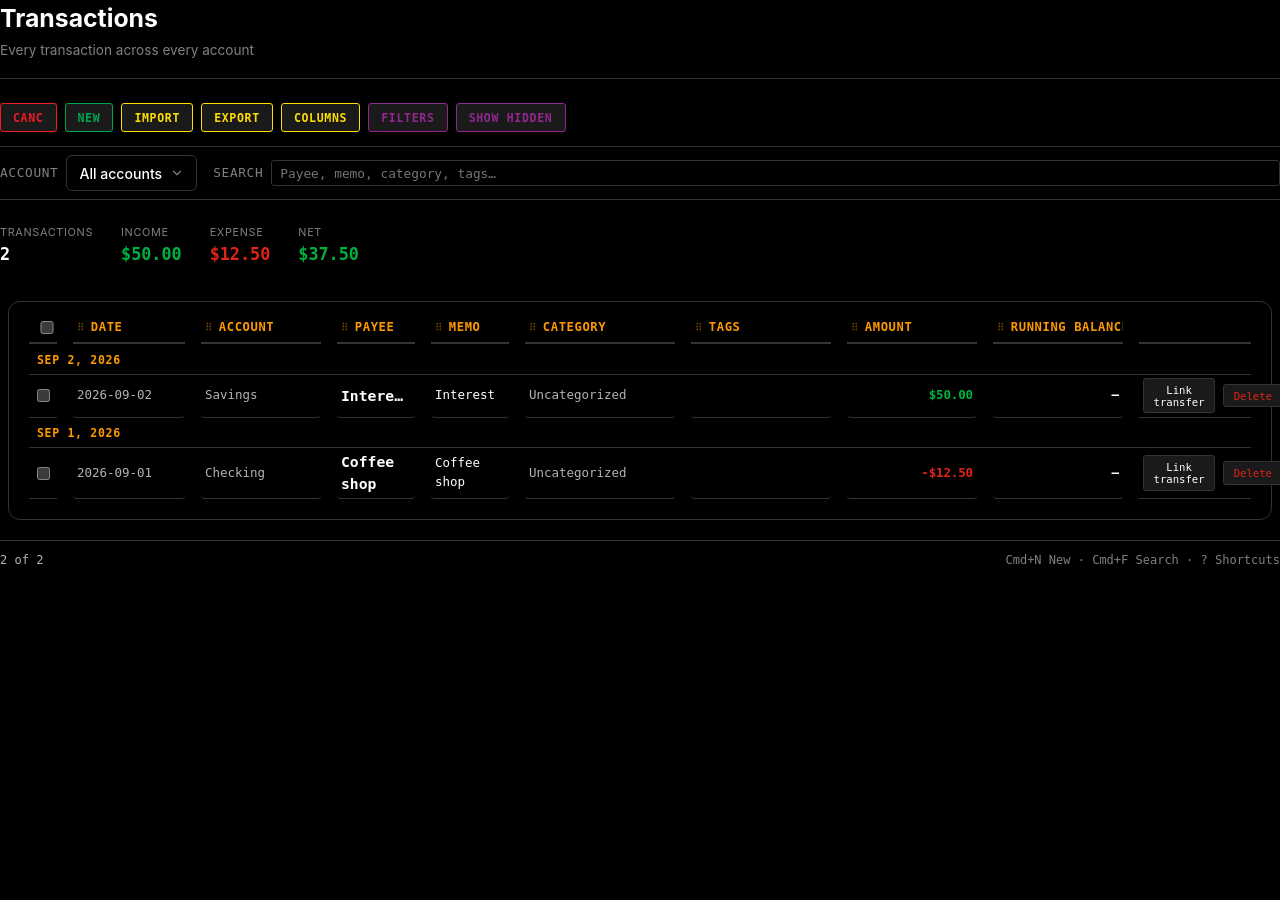
Test: AllTransactionsScreen Category combobox editing + inline creation (#73) › fetches list_category_groups and seeds the create-new dialog's Group dropdown
The width and height of the screenshot is (1280, 900).
Step 1. Click the text "Uncategorized" in the row of "-$12.50" → (600, 474), box [525,448,675,499]
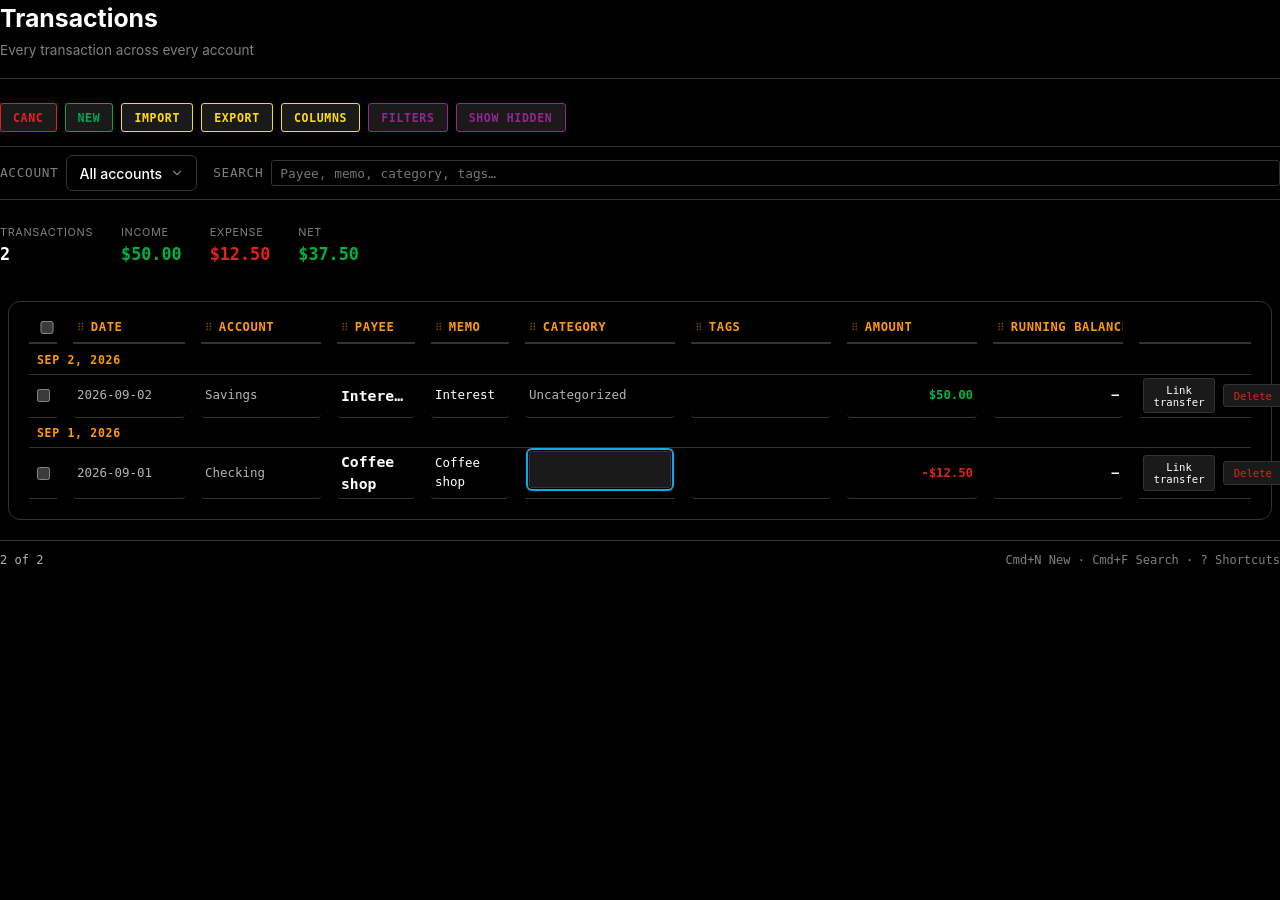
Step 2. Type "Subscriptions" into the field named "Category for Coffee shop" → (600, 469), box [529,451,671,488]
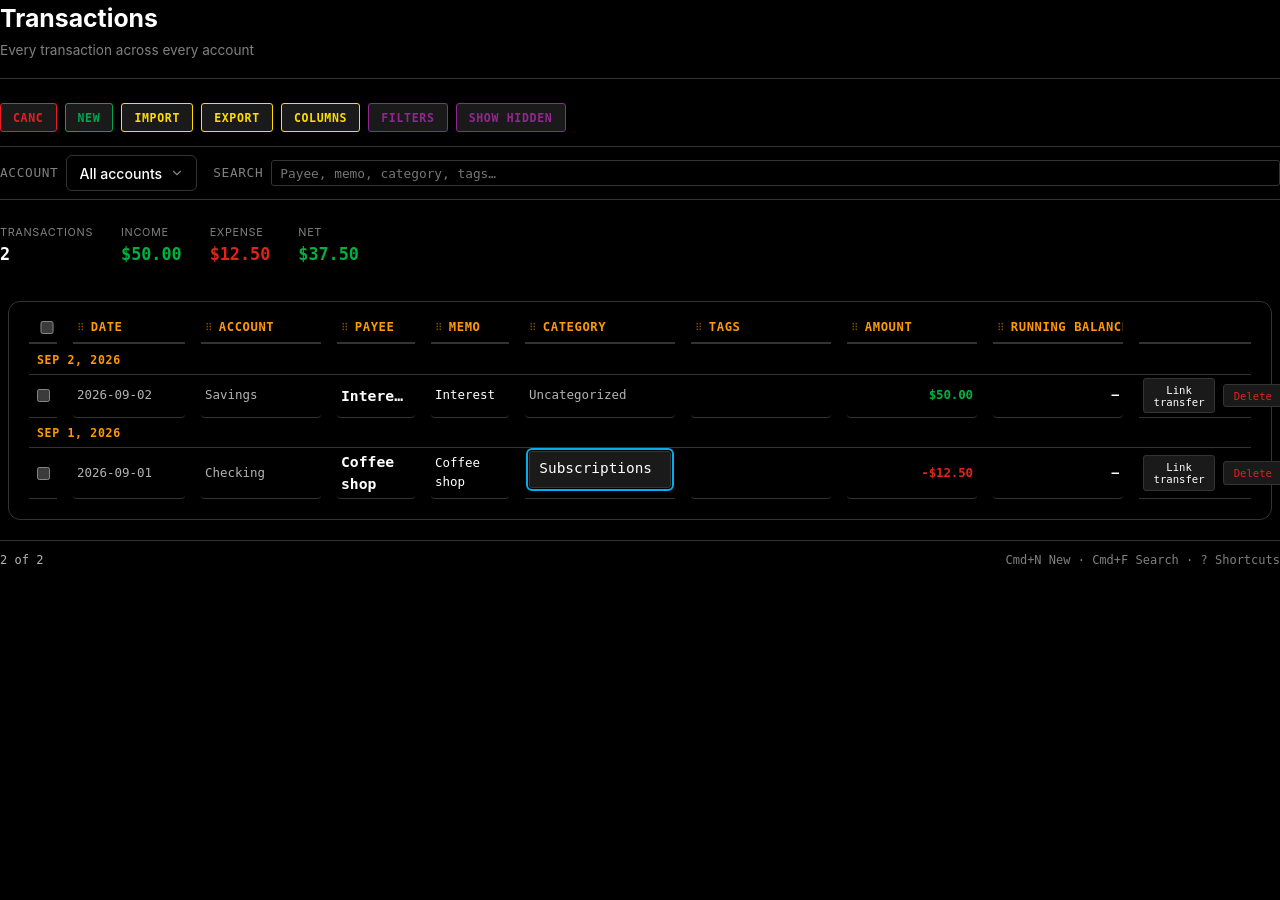
Step 3. Press Enter in the field named "Category for Coffee shop", box [529,451,671,488]
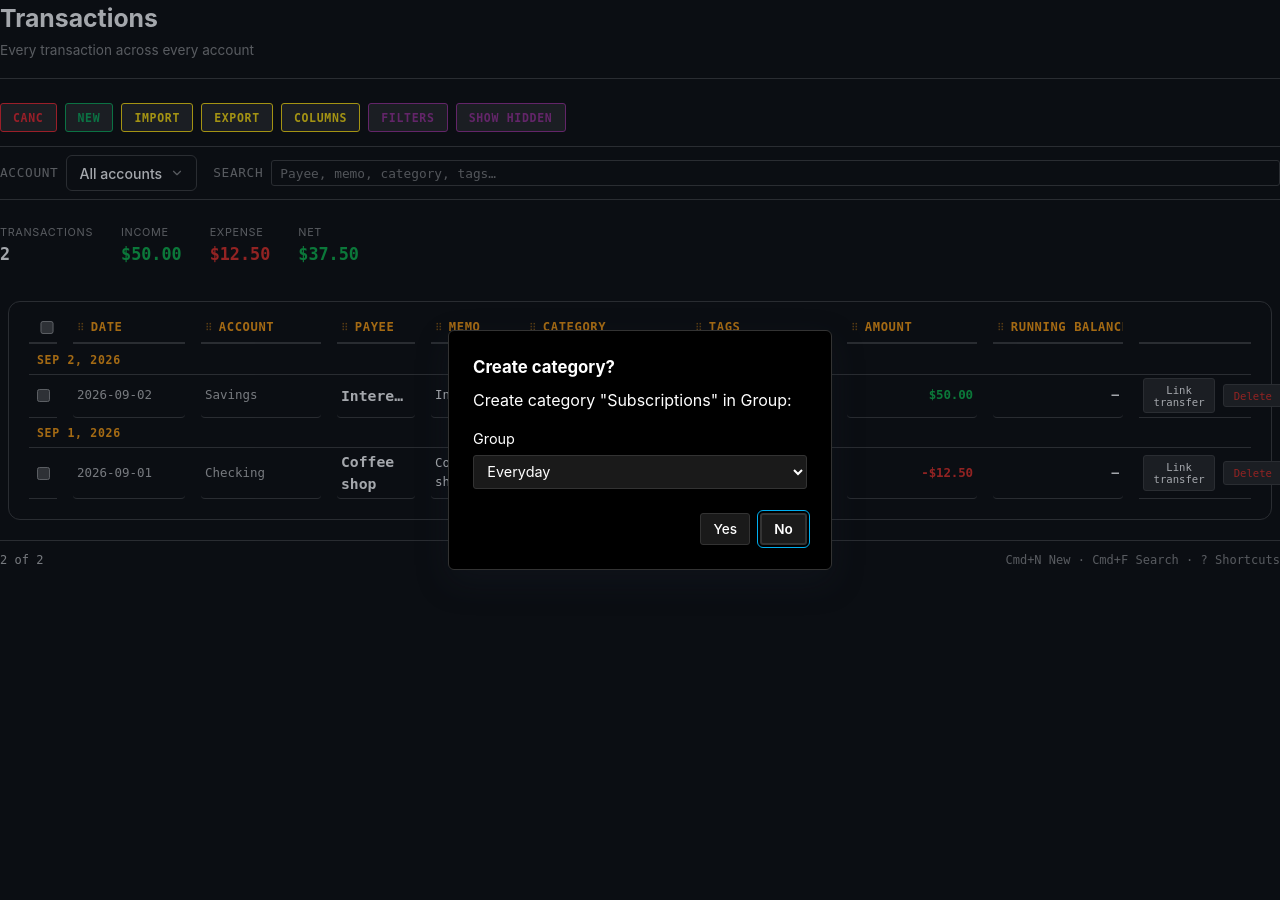
Expected: the dropdown labelled "Group" is shown, [473,455,807,489]
